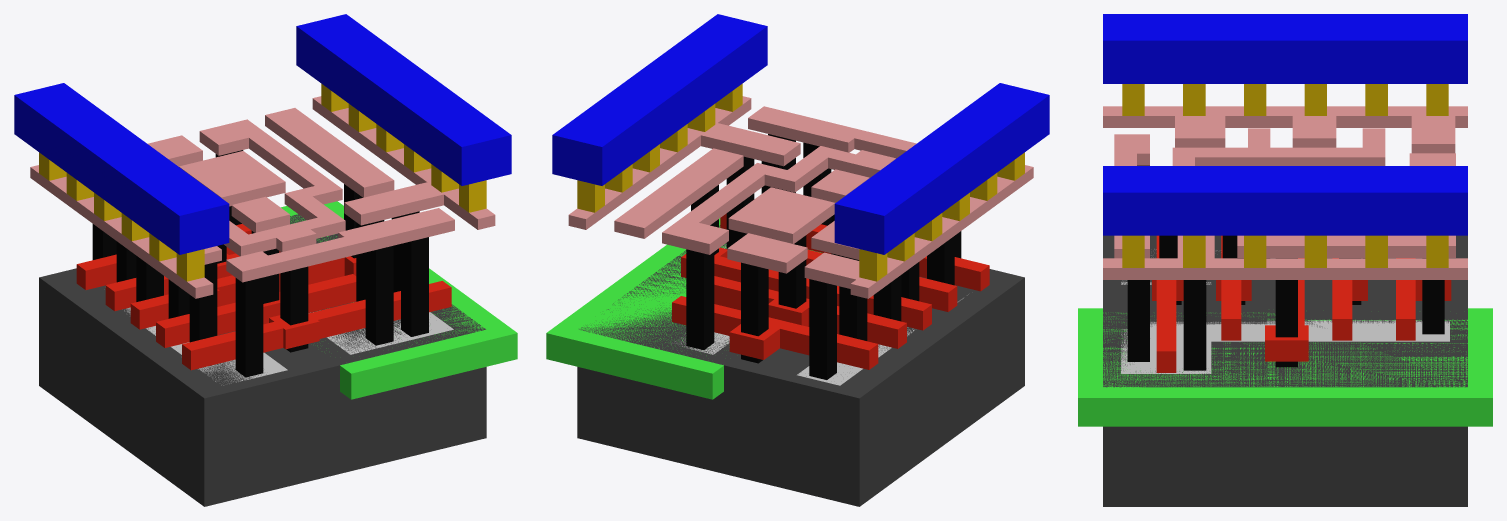
Rendered from sky130_fd_sc_hd__or4_1.obj.
3 views of the same model, side by side, from view 1: azimuth 30°, elevation 25°; view 2: azimuth 150°, elevation 25°; view 3: azimuth 270°, elevation 25° (orthographic). The views are drawn at different scales.
Visible parts, largest first — view 1: subs, metal1, li, licon, poly, nwell, mcon, tap, diff; view 2: subs, metal1, li, licon, nwell, poly, mcon, diff; view 3: subs, metal1, nwell, li, mcon, poly, licon, tap.
Boxes of the visible parts, x1,y1,x2,y2 form: subs: (39,214,486,506); metal1: (14,14,511,254); li: (30,96,495,298); licon: (92,150,428,377); poly: (76,224,451,370); nwell: (281,201,517,399); mcon: (39,83,486,281); tap: (310,312,453,354); diff: (124,307,287,385); subs: (577,225,1024,506); metal1: (552,14,1049,254); li: (568,96,1033,298); licon: (686,134,961,379); nwell: (546,218,821,399); poly: (672,213,989,369); mcon: (577,83,1024,281); diff: (797,294,968,385); subs: (1103,235,1467,506); metal1: (1103,14,1467,235); nwell: (1078,308,1492,426); li: (1103,106,1467,279); mcon: (1122,84,1448,267); poly: (1152,235,1451,372); licon: (1127,165,1444,370); tap: (1121,320,1449,373).
Bounding box in the file's own units: 3.2 × 2.74 × 3.14.
